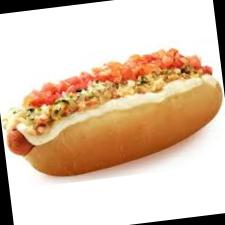Completos: (1, 34, 225, 192)
